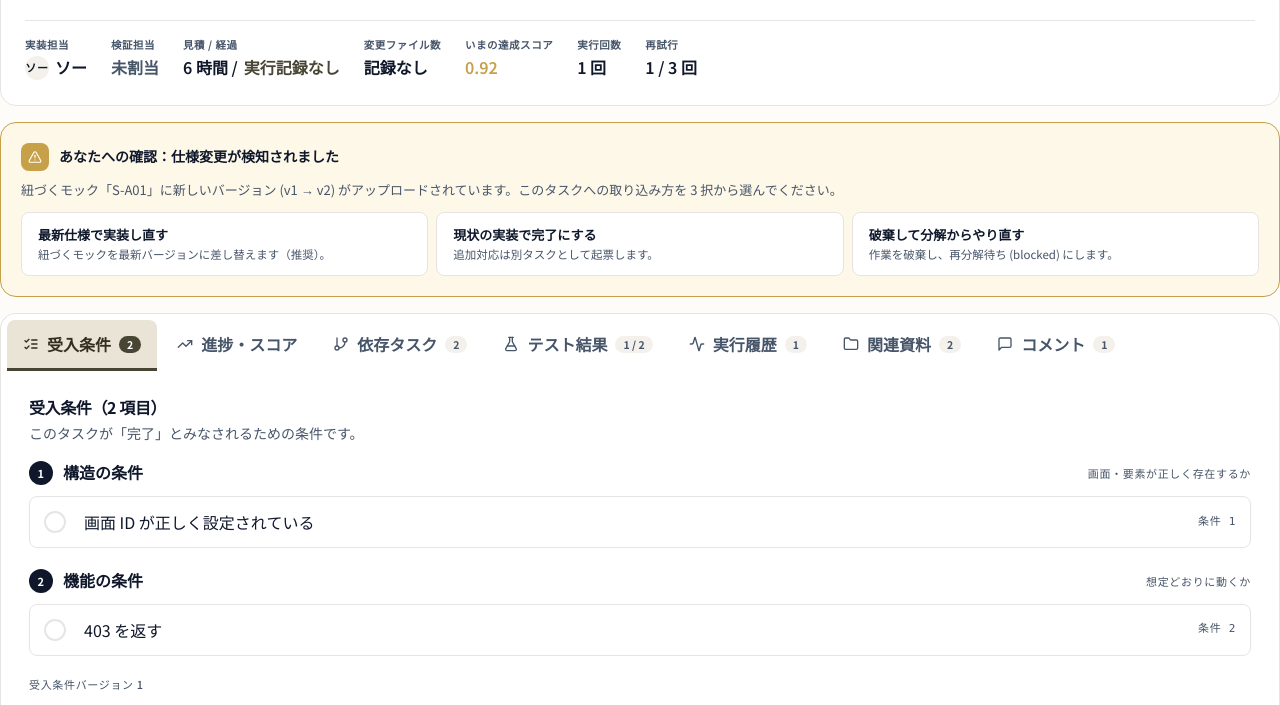
S-I02 GAP-025 (仕様変更 3 択 / テスト結果 / 関連資料 / メタ) › テスト結果タブ: pass/fail 実描画 + タブカウント
The width and height of the screenshot is (1280, 705).
(page scrolled)
tests は executions 解決後の 2 段階目クエリのため反映を待つ
Click the tab "テスト結果 1 / 2" at coordinates (578, 346), box [488, 320, 669, 372]
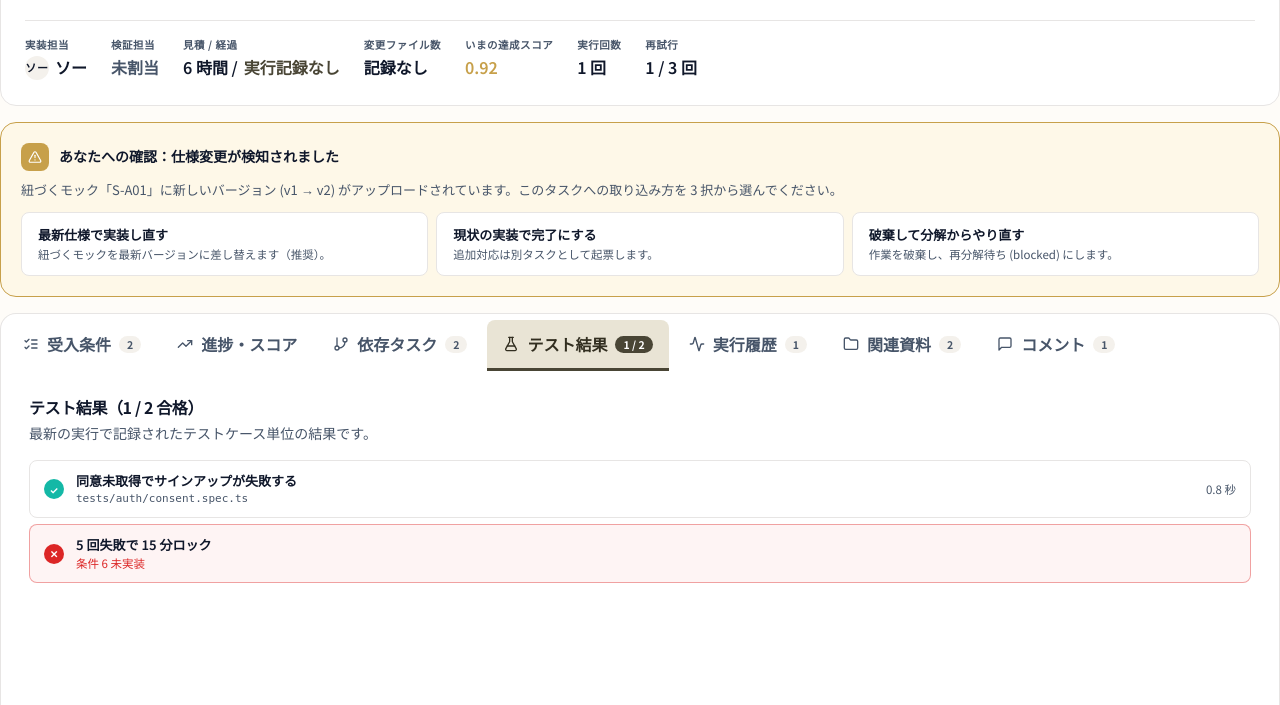
Check: the text "同意未取得でサインアップが失敗する" is shown, box [76, 472, 297, 490]
Check: the text "tests/auth/consent.spec.ts" is shown, box [76, 492, 248, 505]
Check: the text "条件 6 未実装" is shown, box [76, 555, 145, 571]
